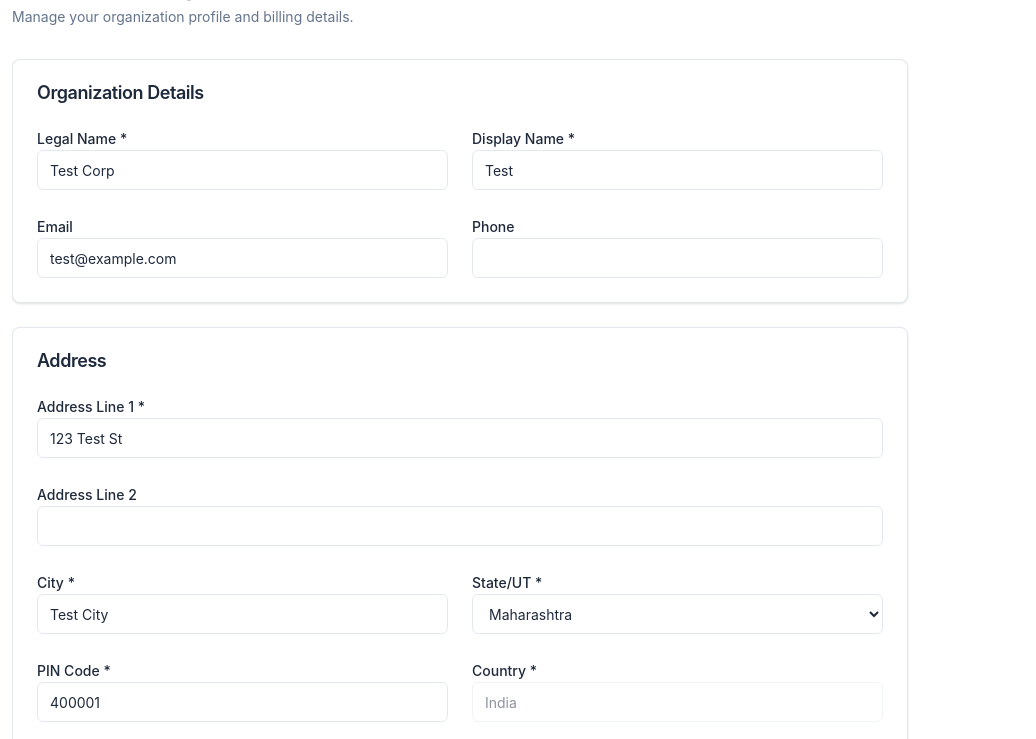
Test: BusinessSettingsPage › submits successfully and shows success message
Step 1. Replace the text in the field labelled "Legal Name *" with "New Corp" → (242, 170), box [37,150,448,190]
(page scrolled)
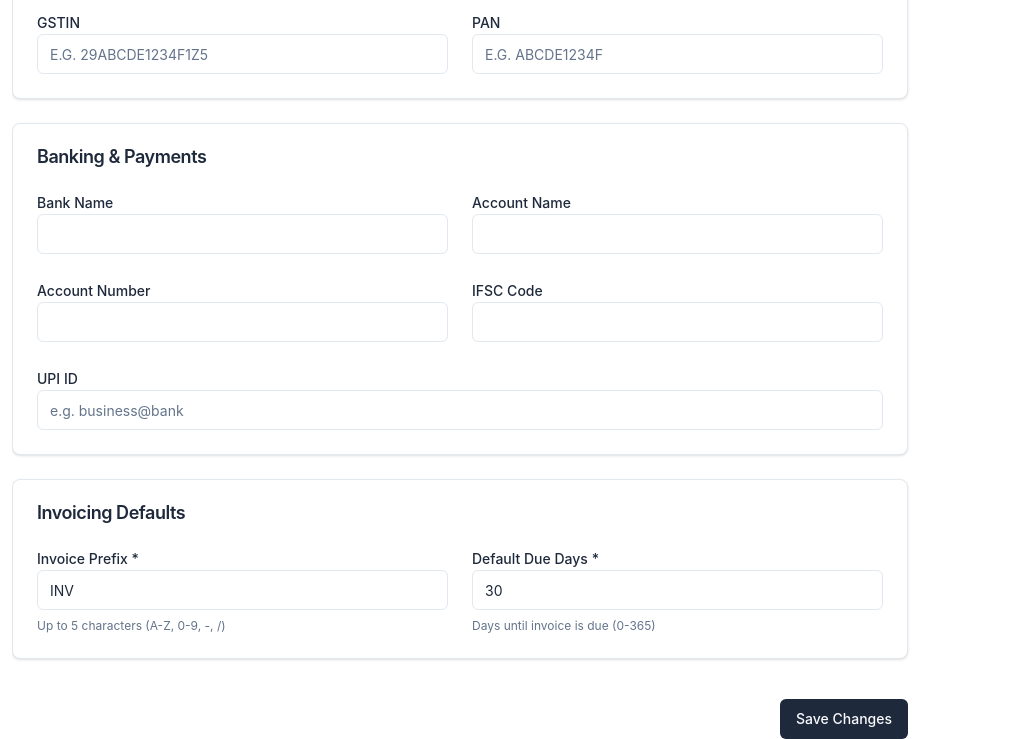
Step 2. Click the button "Save Changes" → (844, 719), box [780,699,908,738]
(page scrolled)
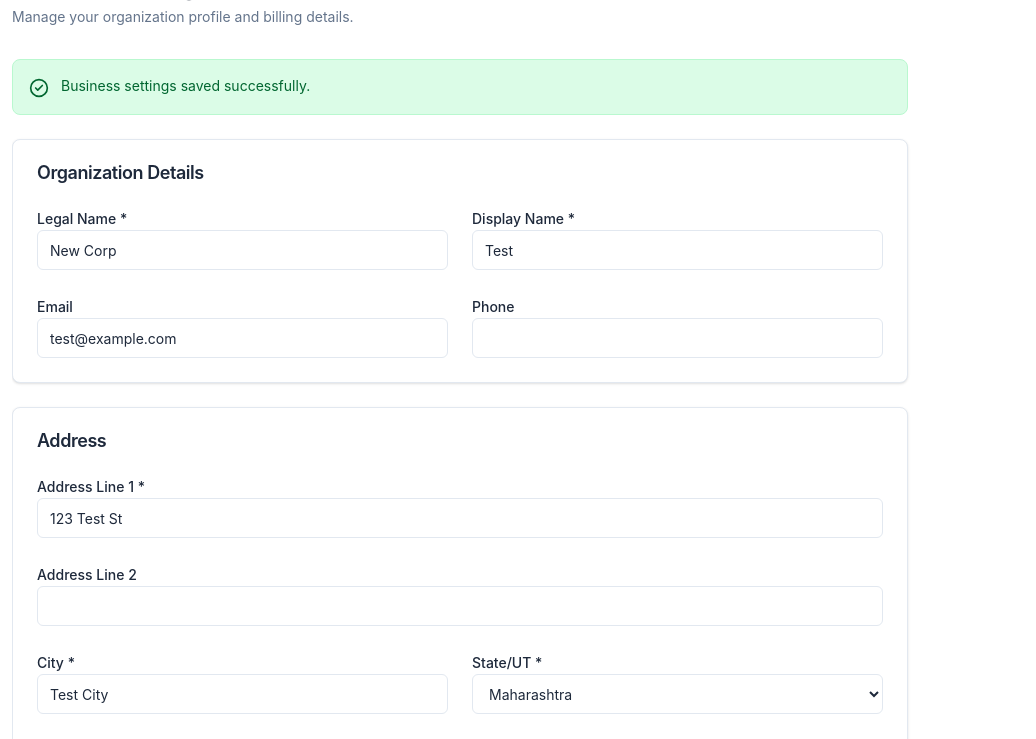
Now the text "Business settings saved successfully." is shown, box [61,77,310,94]
